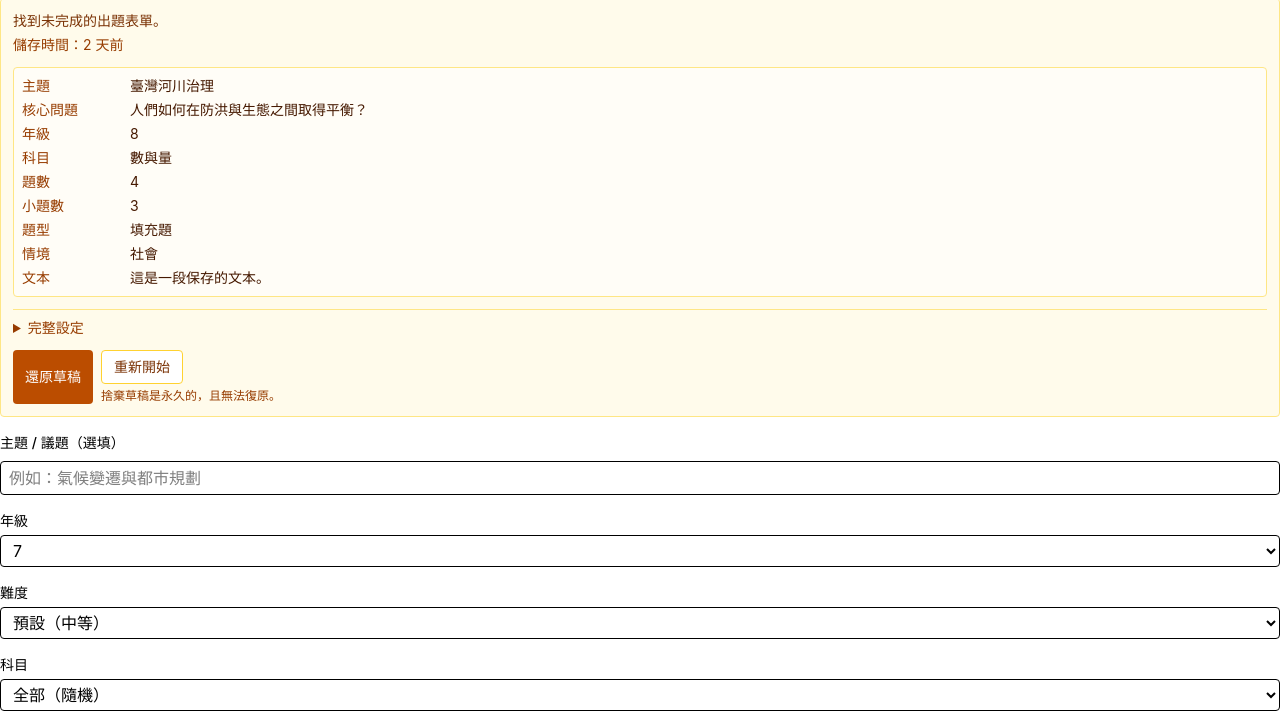
Test: ParamForm draft summary › renders saved per-subquestion settings as labelled cards in the restore banner
The image size is (1280, 713).
Expected: the element named "草稿摘要" is shown, [13,67,1267,297]
Click the heading "完整設定".
click(56, 328)  # box [28,319,84,336]
(page scrolled)
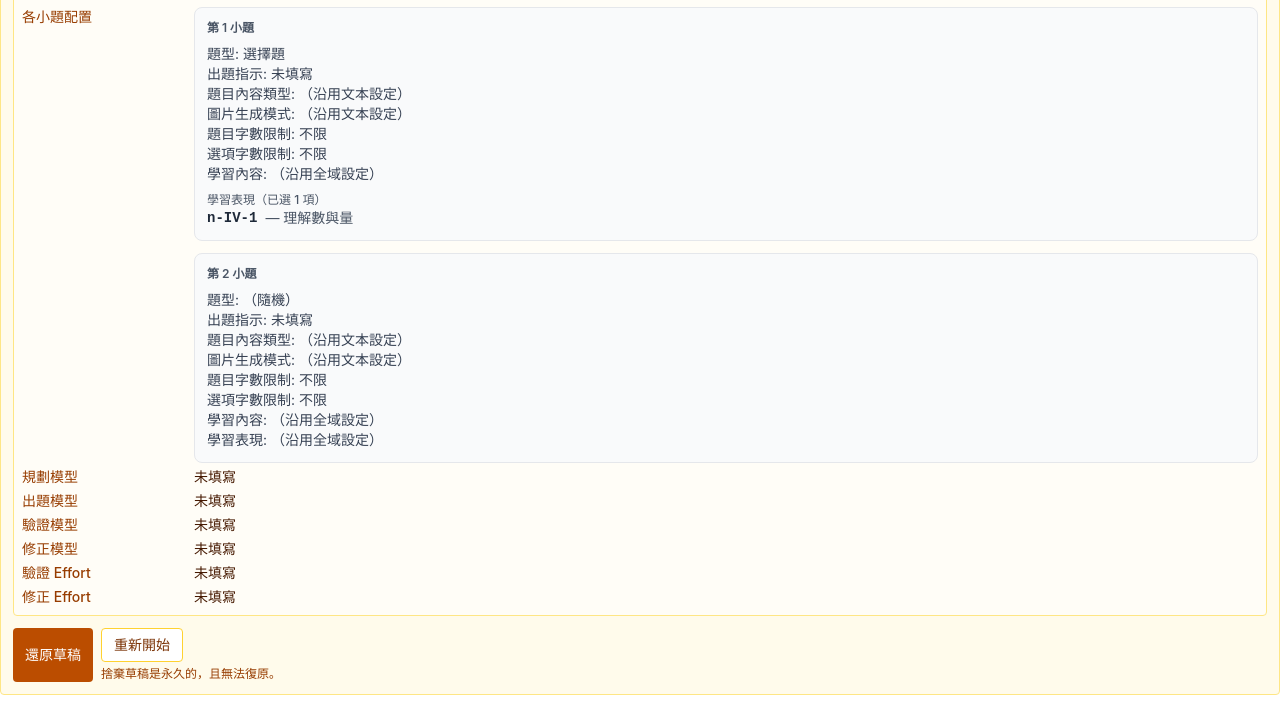
Now the message shows "第 1 小題", box [207,20,254,35]
Now the message shows "第 2 小題", box [207,266,256,281]
Now the message shows "題型:", box [207,45,239,62]
